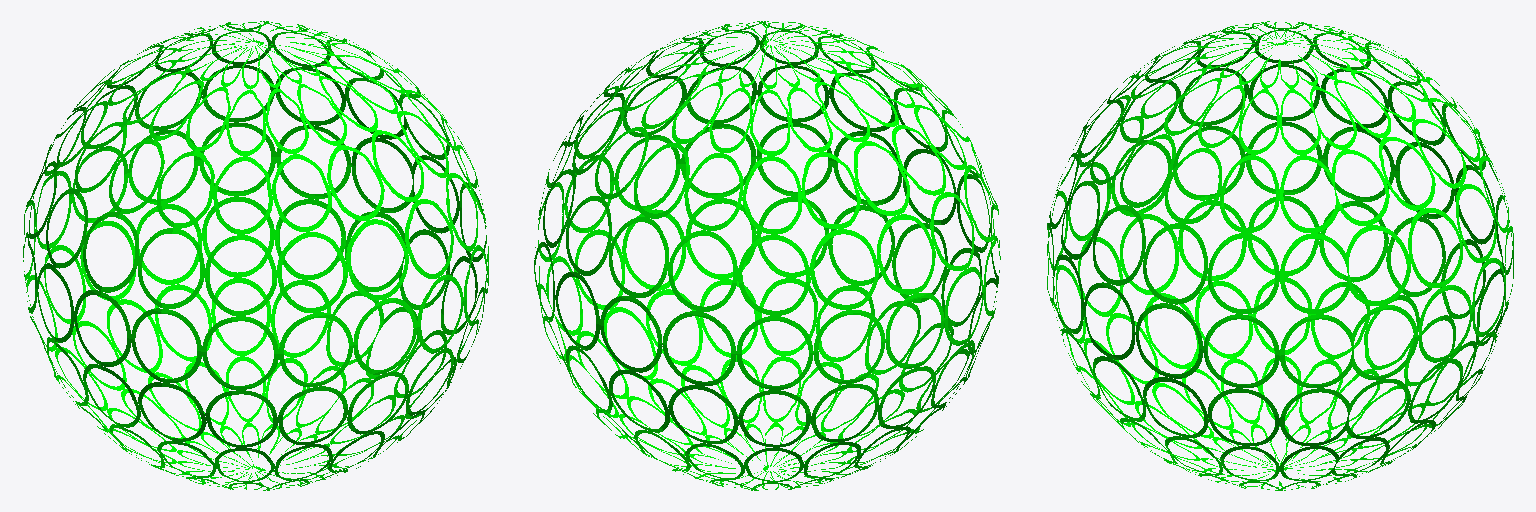
The picture shows the model from 3 angles: view 1: azimuth 30°, elevation 25°; view 2: azimuth 150°, elevation 25°; view 3: azimuth 270°, elevation 25°; orthographic projection.
Parts seen in each view (by area): view 1: pSphere1; view 2: pSphere1; view 3: pSphere1.
Part boxes in pixels (left/top/right/bottom): pSphere1: left=23, top=21, right=488, bottom=490; pSphere1: left=534, top=21, right=1000, bottom=490; pSphere1: left=1047, top=21, right=1513, bottom=490.
Size of the model in its own units: 2 by 2 by 2.
Materials: 1 (1 with a texture image).